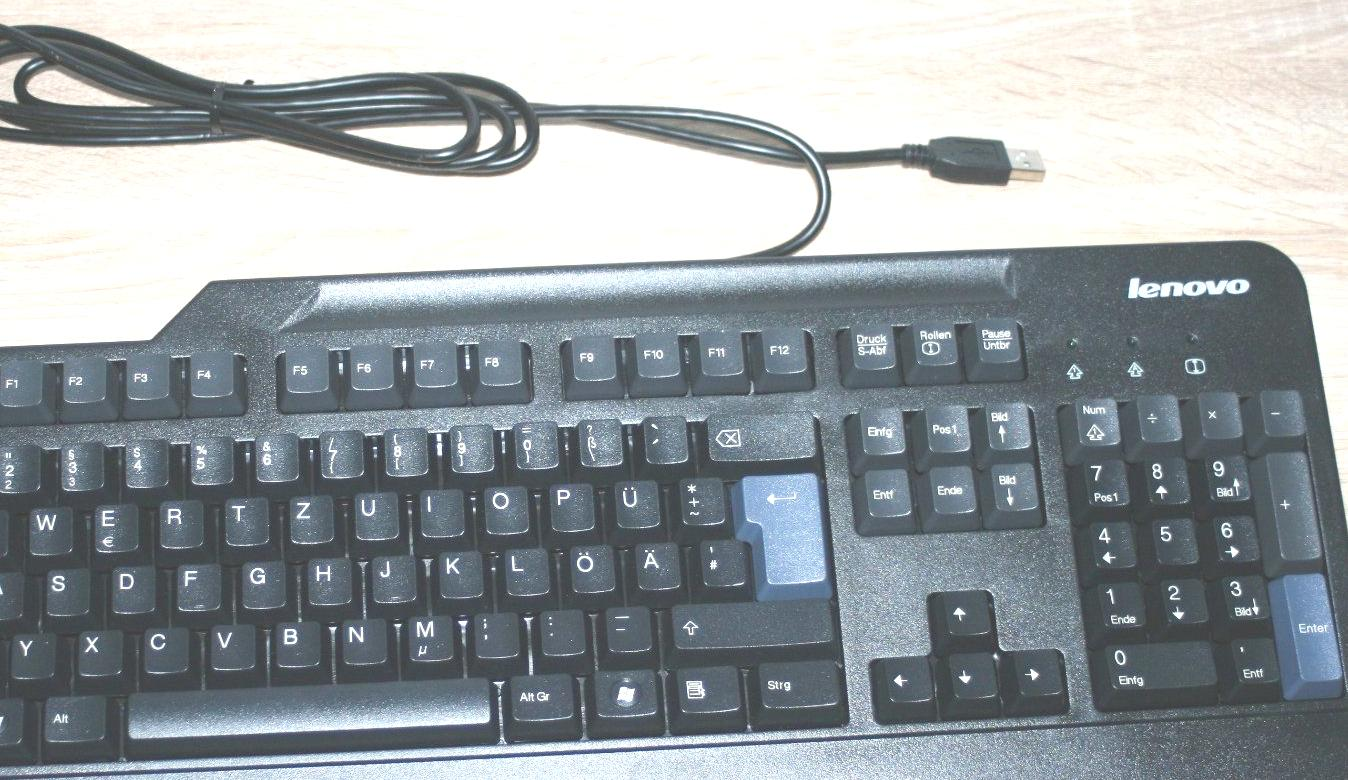0: (509, 416, 558, 468)
1: (1, 442, 24, 495)
2: (1, 437, 39, 492)
3: (54, 437, 103, 490)
4: (119, 434, 168, 486)
5: (184, 430, 232, 484)
6: (249, 426, 298, 480)
7: (315, 425, 363, 476)
8: (379, 423, 427, 475)
9: (444, 418, 493, 471)
a: (1, 566, 25, 618)
accent: (639, 410, 686, 461)
ae: (630, 536, 679, 587)
alt-left: (37, 690, 105, 740)
altgr-right: (502, 669, 573, 719)
b: (269, 615, 319, 664)
c: (137, 622, 187, 670)
caret: (1, 445, 24, 495)
comma: (468, 607, 518, 656)
d: (105, 560, 153, 611)
del: (701, 406, 815, 460)
e: (88, 497, 137, 549)
enter: (737, 469, 826, 585)
f: (171, 558, 219, 608)
g: (235, 555, 285, 606)
h: (302, 552, 350, 602)
hash: (695, 535, 745, 585)
i: (415, 484, 462, 535)
j: (365, 549, 415, 600)
k: (434, 545, 482, 596)
keyboard: (1, 286, 1348, 780)
l: (501, 544, 549, 594)
less: (1, 631, 27, 682)
m: (402, 610, 454, 659)
minus: (600, 601, 650, 649)
n: (336, 613, 385, 662)
o: (479, 480, 528, 532)
oe: (565, 540, 614, 591)
p: (545, 478, 593, 529)
plus: (674, 472, 724, 523)
point: (534, 605, 584, 653)
q: (1, 505, 26, 557)
r: (153, 494, 202, 545)
s: (39, 564, 89, 614)
shift-left: (1, 635, 34, 684)
shift-lock: (1, 572, 42, 624)
shift-right: (667, 596, 832, 645)
space: (119, 675, 493, 745)
ss: (574, 413, 622, 465)
strg-left: (1, 696, 44, 748)
strg-right: (749, 656, 842, 709)
t: (220, 491, 266, 542)
tab: (1, 508, 40, 561)
u: (349, 487, 397, 538)
ue: (610, 475, 659, 527)
v: (204, 620, 254, 668)
w: (23, 500, 71, 552)
x: (72, 624, 121, 673)
y: (6, 630, 54, 676)
z: (284, 490, 332, 541)
